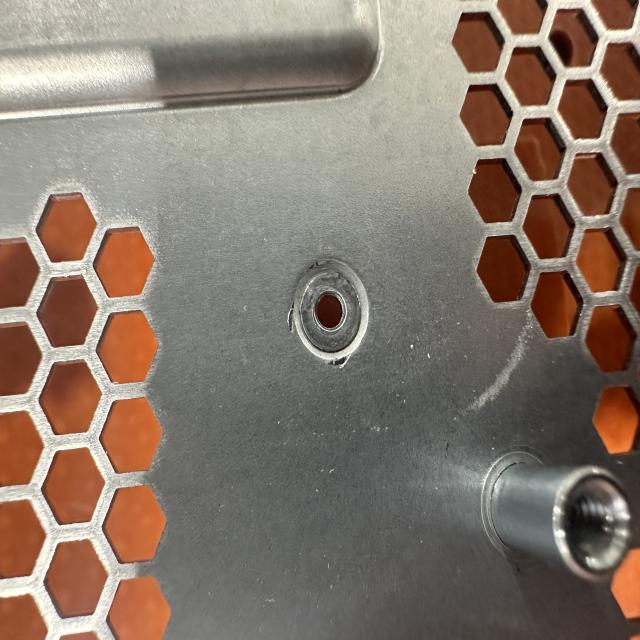Missing screw: (280, 252, 380, 376)
